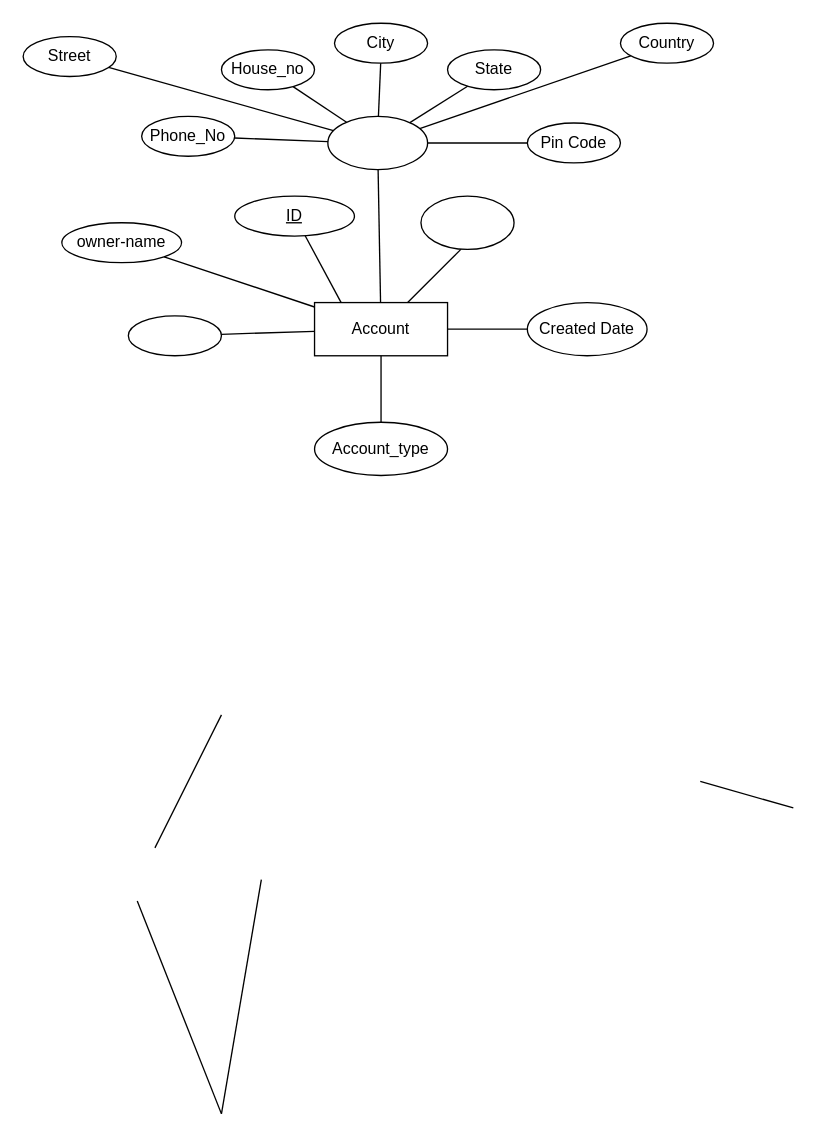
This 819x1138 diagram has some shape labels left out. Here are the shapes that lost their labels. From the top down, the box of each, then its label:
(327, 115, 428, 170): Address
(420, 195, 514, 249): Balance
(127, 315, 221, 356): Status
